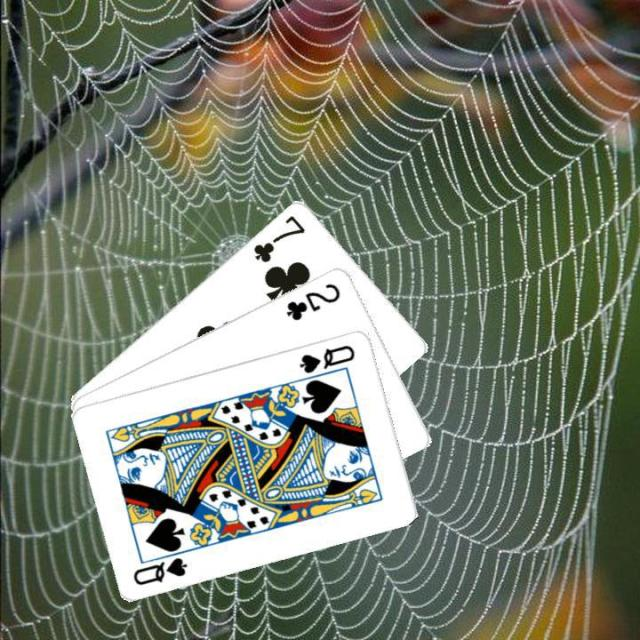2C: (283, 278, 342, 323)
7C: (249, 211, 307, 265)
QS: (295, 341, 357, 375), (130, 553, 189, 587)
